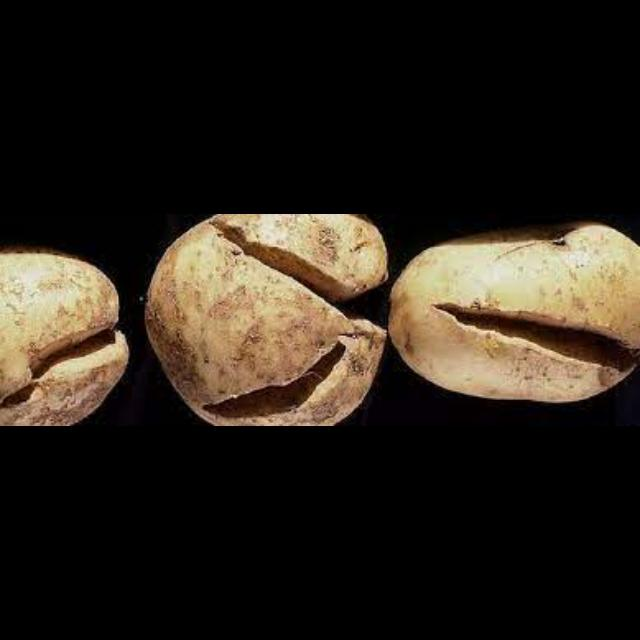Damaged potato: (142, 216, 396, 427), (379, 216, 635, 404), (0, 241, 126, 424)
